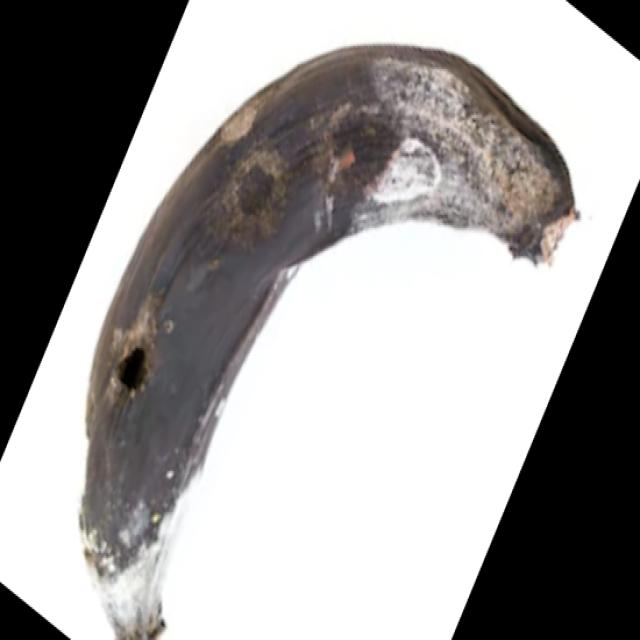Rotten: (76, 42, 577, 640)
